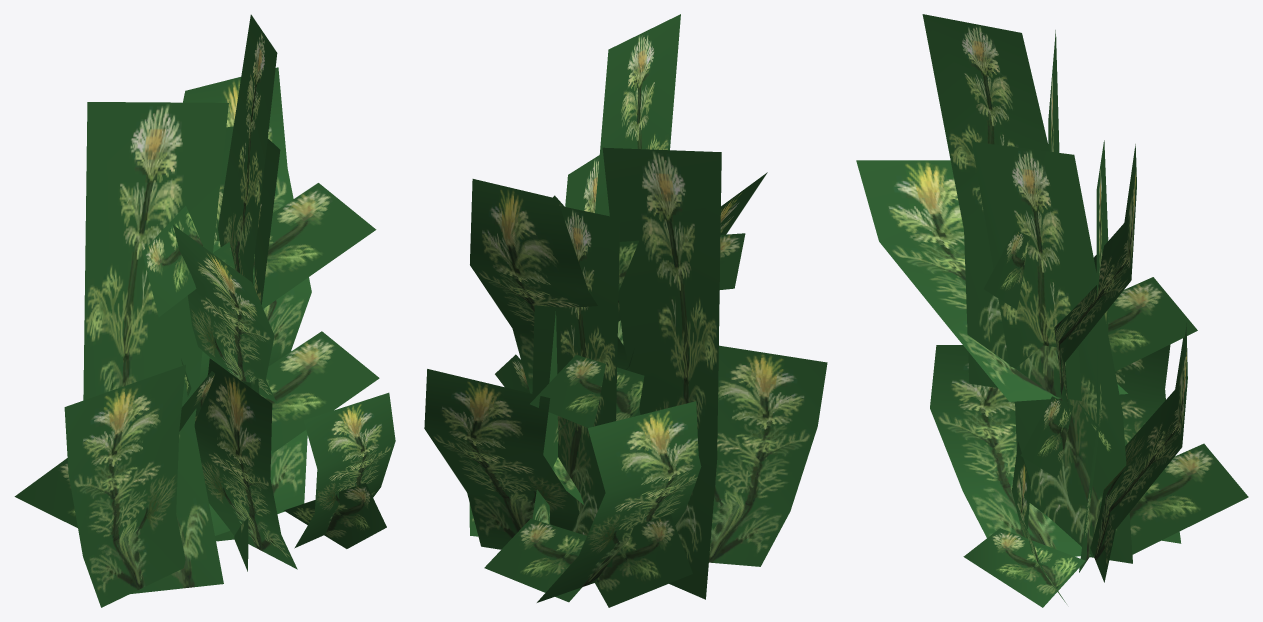
File: caoyao002.FBX
The picture shows the model from 3 angles, left to right: view 1: azimuth 30°, elevation 25°; view 2: azimuth 150°, elevation 25°; view 3: azimuth 270°, elevation 25°; orthographic projection. The views are drawn at different scales.
Visible parts, largest first — view 1: skin@st; view 2: skin@st; view 3: skin@st.
Part boxes in pixels (x1,y1,x2,y2): skin@st: (14, 14, 395, 607); skin@st: (424, 14, 827, 607); skin@st: (856, 14, 1248, 607).
Bounding box in the file's own units: 57.06 × 87.05 × 57.75.
